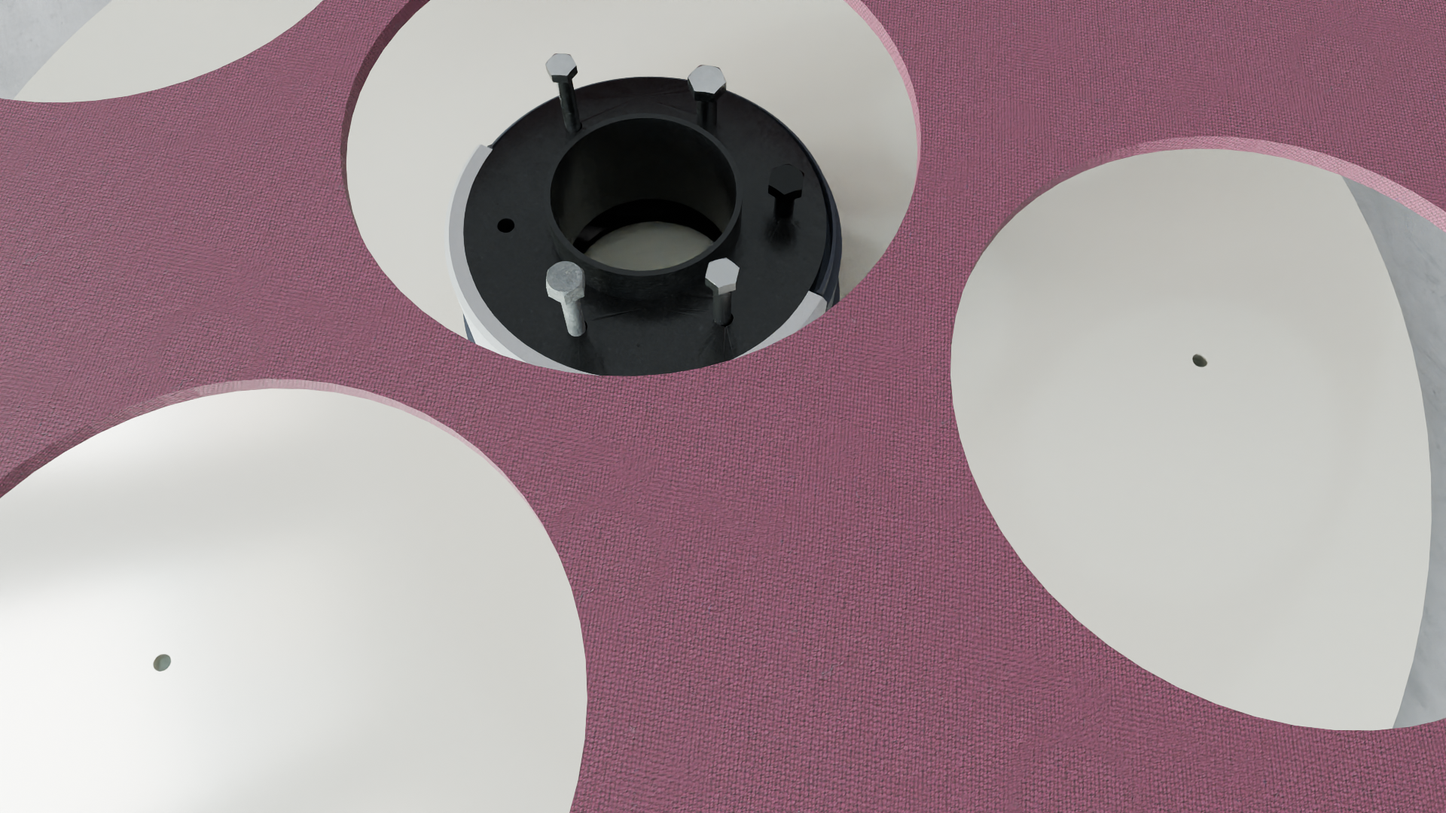bolt: (546, 261, 584, 297), (769, 163, 804, 195), (688, 65, 727, 93), (705, 258, 740, 288), (545, 53, 576, 76)
